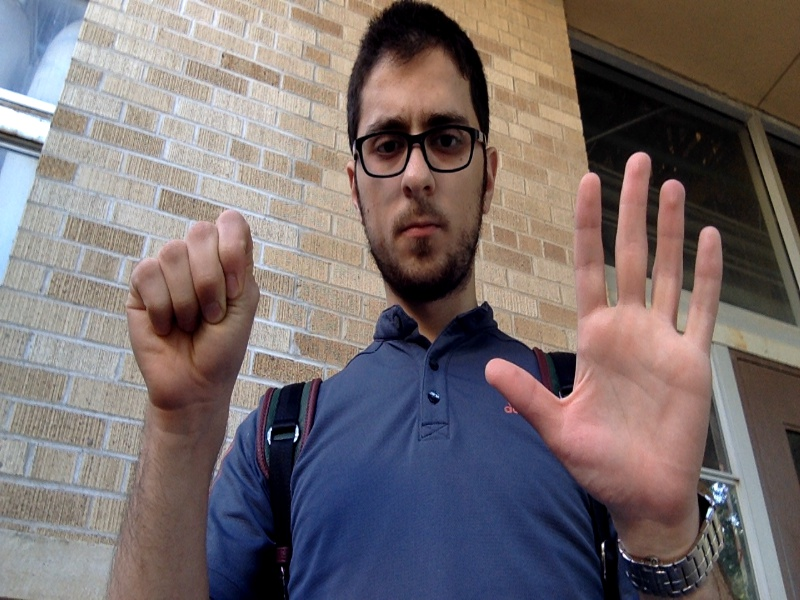0-hand: (126, 212, 257, 409)
5-hand: (488, 152, 724, 524)
